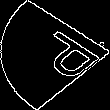P_SE: (11, 24, 99, 86)
